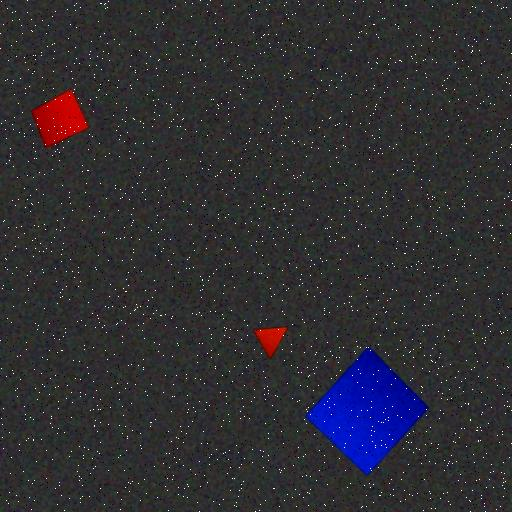BLUE_SQUARE: (304, 346, 430, 476)
RED_SQUARE: (30, 88, 89, 149)
